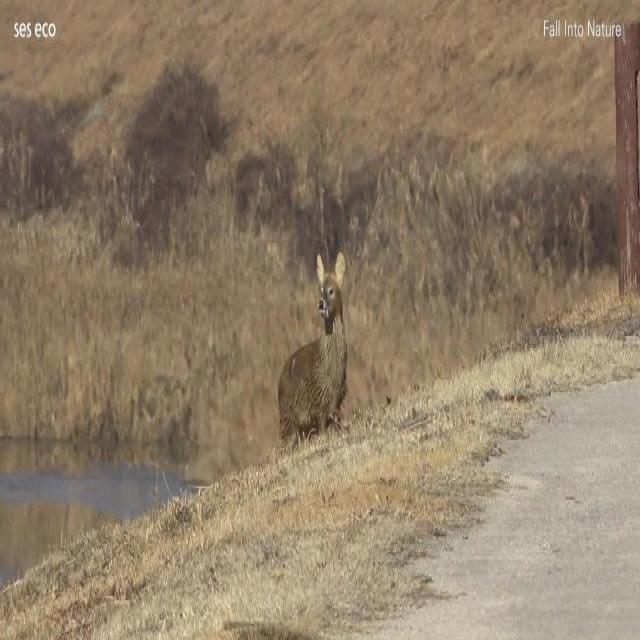deer: (276, 251, 350, 444)
